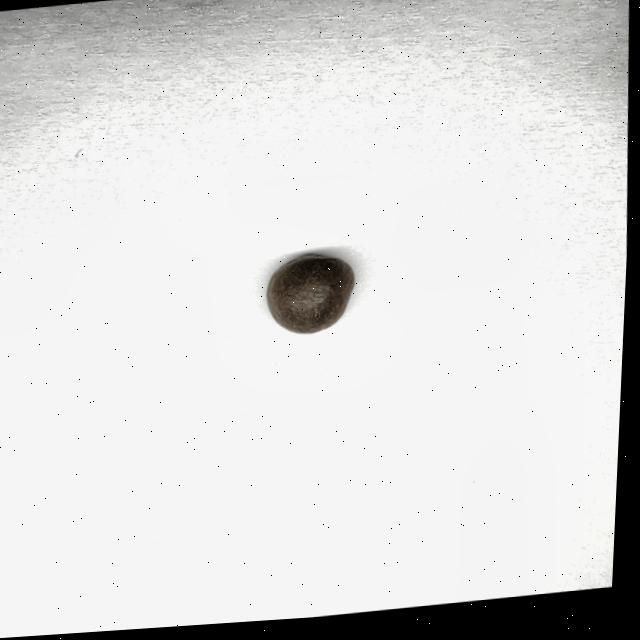Black: (267, 254, 358, 343)
